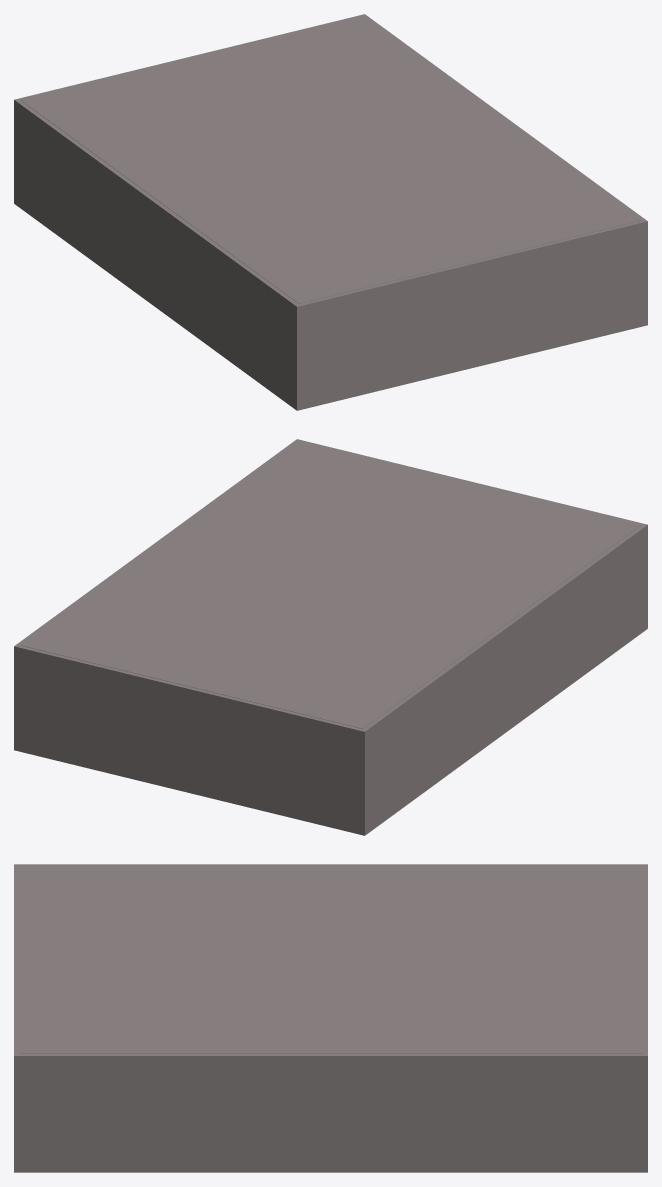
Rendered from university16_final.fbx.
3 views of the same model, one above another, from view 1: azimuth 30°, elevation 25°; view 2: azimuth 150°, elevation 25°; view 3: azimuth 270°, elevation 25° (orthographic). The views are drawn at different scales.
Parts seen in each view (by area): view 1: Cube.001, Classroom; view 2: Cube.001, Classroom; view 3: Cube.001, Classroom.
Part boxes in pixels (left/top/right/bottom): Cube.001: left=21, top=16, right=640, bottom=303; Classroom: left=14, top=14, right=647, bottom=410; Cube.001: left=21, top=441, right=640, bottom=728; Classroom: left=14, top=439, right=647, bottom=835; Cube.001: left=19, top=866, right=642, bottom=1053; Classroom: left=14, top=864, right=647, bottom=1172.
Bounding box in the file's own units: 13188 × 3745 × 18429.
Materials: 1 (1 with a texture image).
